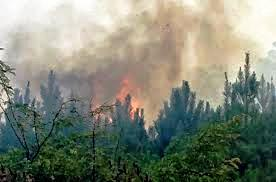fire: (88, 86, 155, 126)
